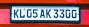numberplate: (9, 5, 79, 23)
